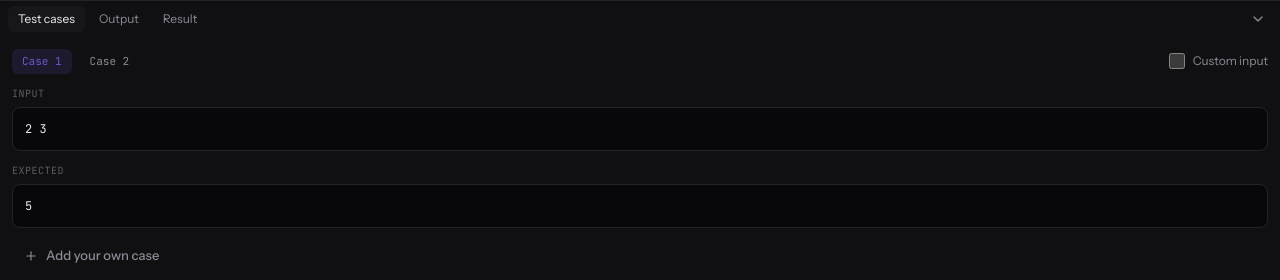
Test: ConsolePanel › shows sample input and lets the user switch to custom input
expect the text "2 3" is shown: met, box [12,106,1268,150]
Click the checkbox labelled "Custom input". click: (1177, 61)
box: [1169,53,1185,69]
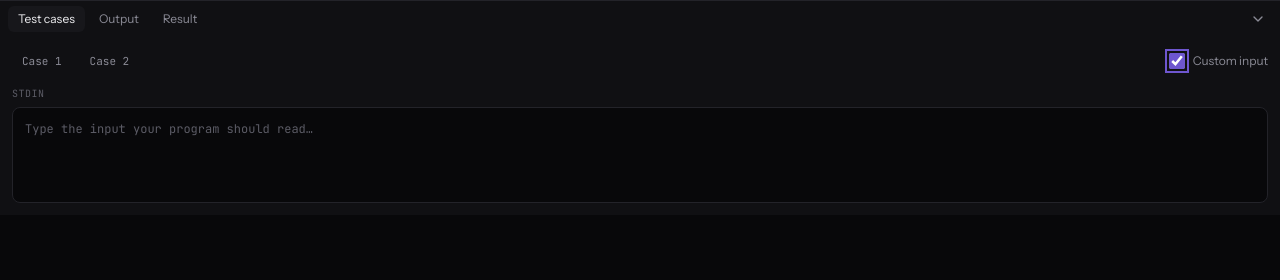
expect the text box labelled "stdin" is shown: met, box [12,106,1268,202]
